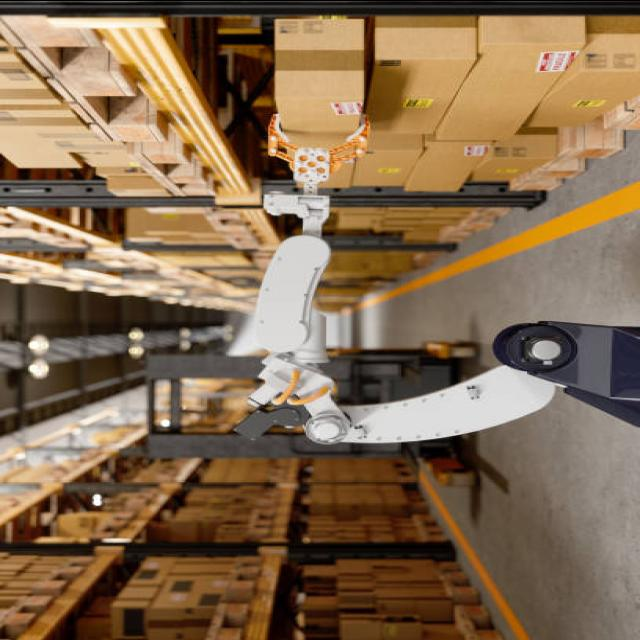Robotic-arm: (230, 173, 640, 450)
